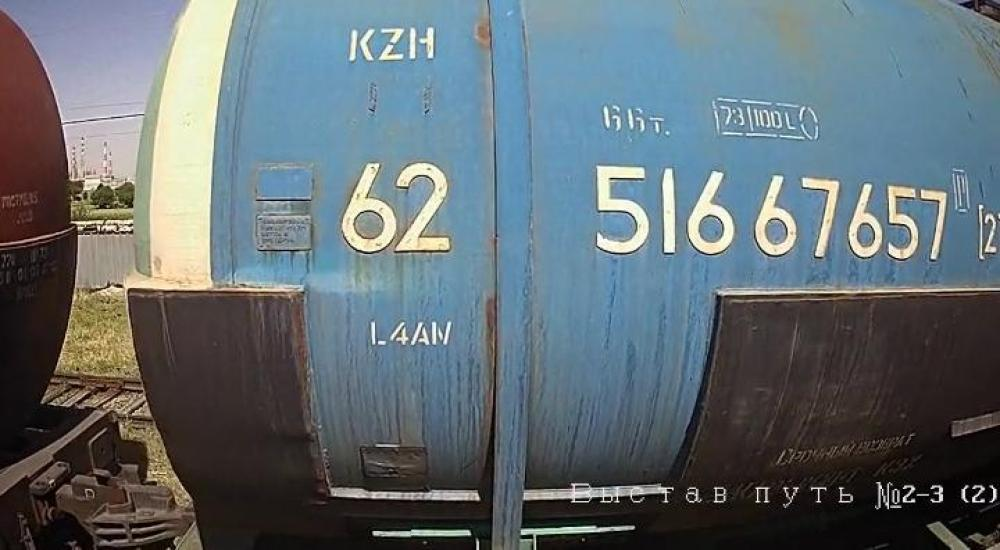Wagon-number: (590, 160, 952, 272)
